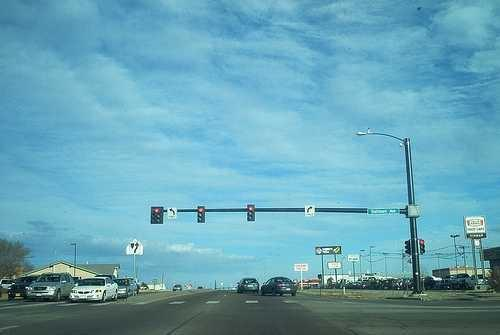red: (150, 205, 164, 224), (247, 202, 256, 223), (196, 205, 205, 222)
